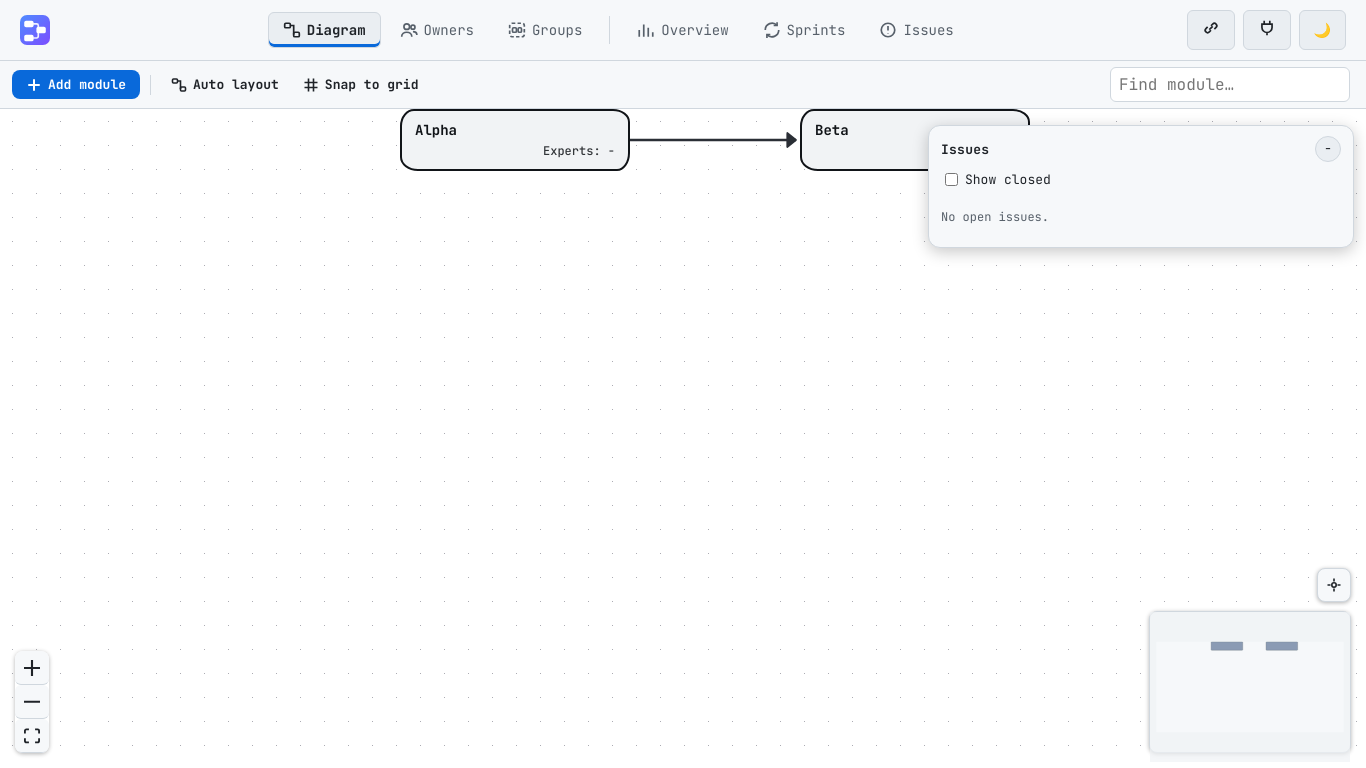
Test: app selection › Add module opens the popup in create mode
What coordinates should you click on to do the following:
click the button "Add module"
I would click on:
 (76, 84)
Its box is [12,70,140,99].
(page scrolled)
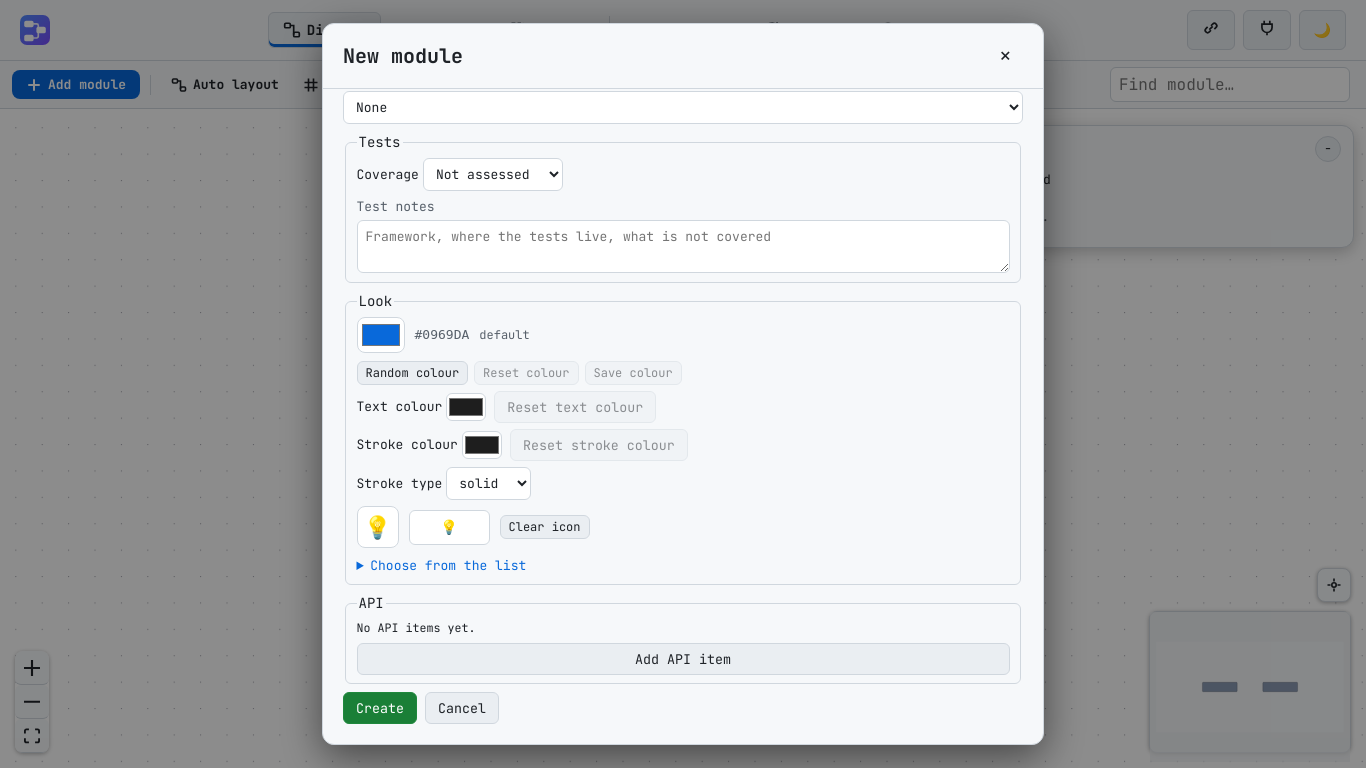
Expected: the dialog "New module" is shown, [322,23,1044,745]
Expected: the button "Create" is shown, [343,692,417,724]
